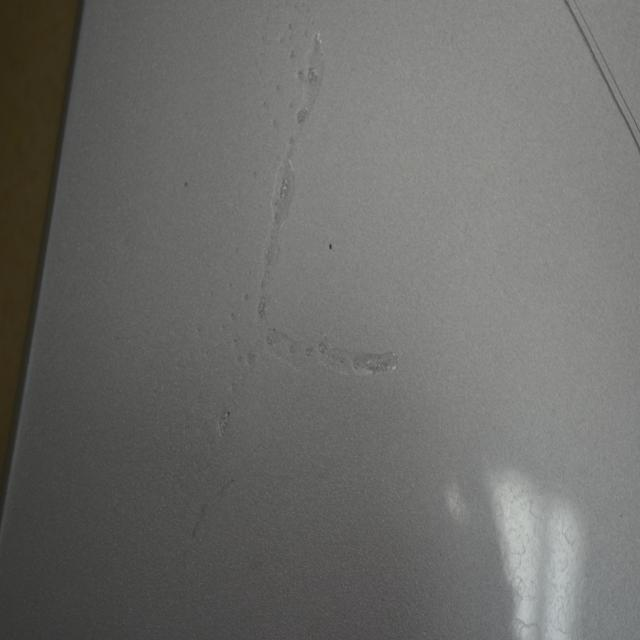dirt: (327, 240, 335, 258), (183, 179, 189, 189)
runs: (193, 0, 401, 599)
scratch: (565, 0, 640, 159)
